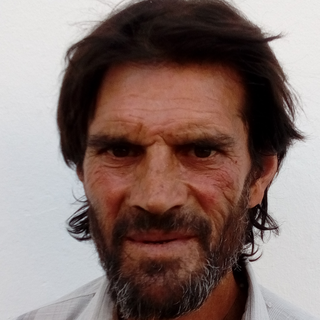eye: (175, 136, 225, 161), (93, 140, 148, 162)
